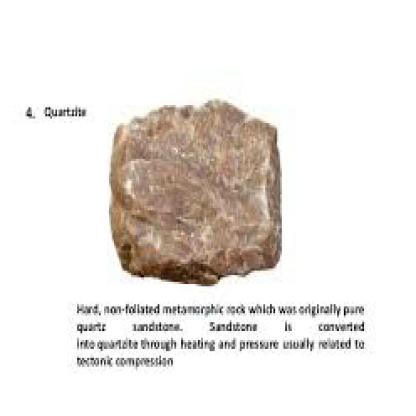Metamorphic_Quartize: (94, 90, 290, 284)
